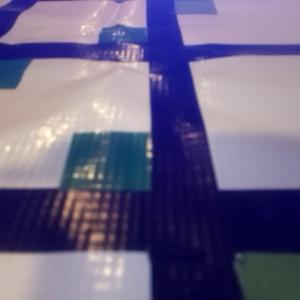bottom_right: (152, 190, 300, 300), (1, 44, 33, 88), (147, 1, 217, 14)
top_left: (61, 131, 206, 251), (98, 25, 178, 59)
